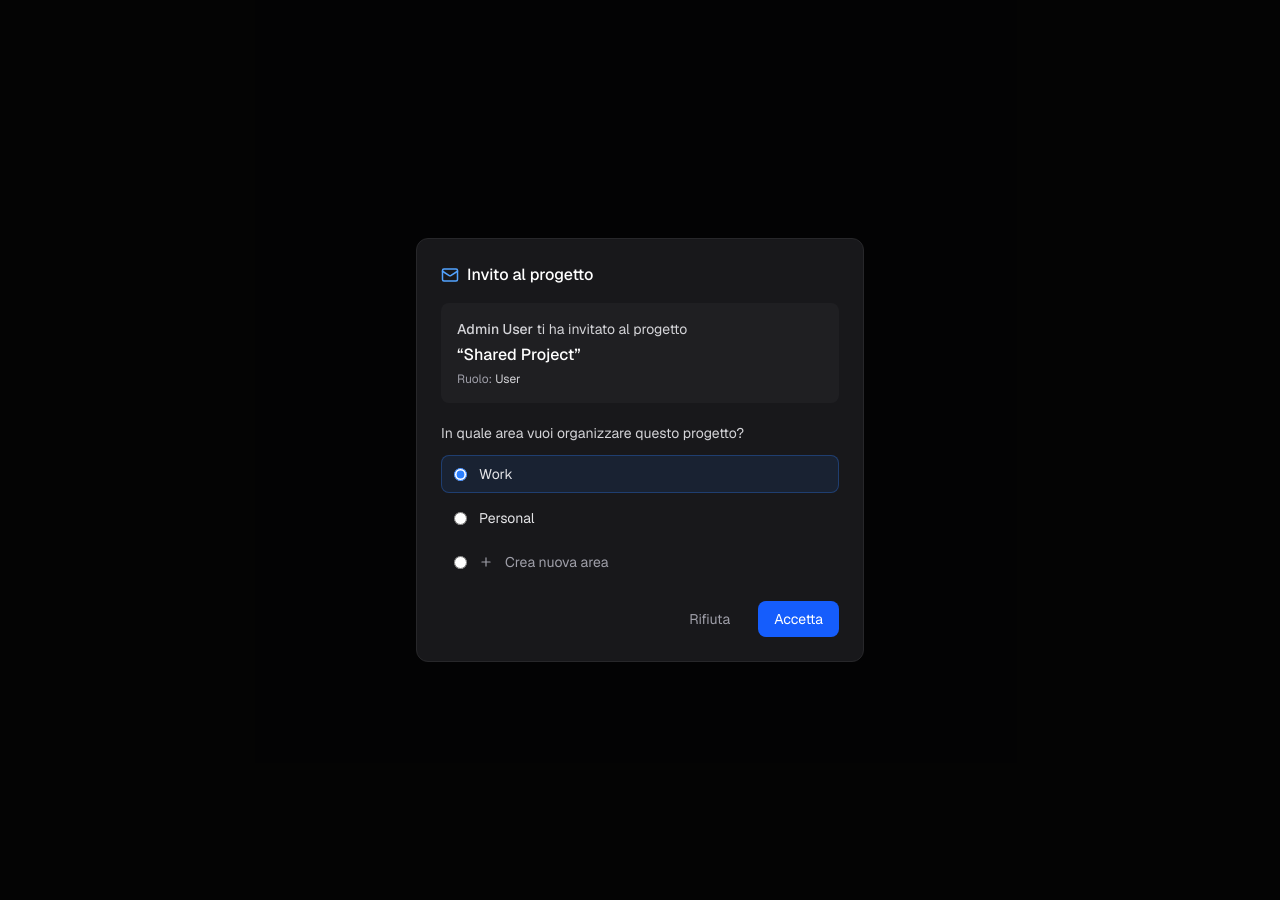
Test: AcceptInvitationDialog › shows 'create new area' input when selected
Step 1. Click the text "Crea nuova area" → (557, 562), box [505, 552, 608, 572]
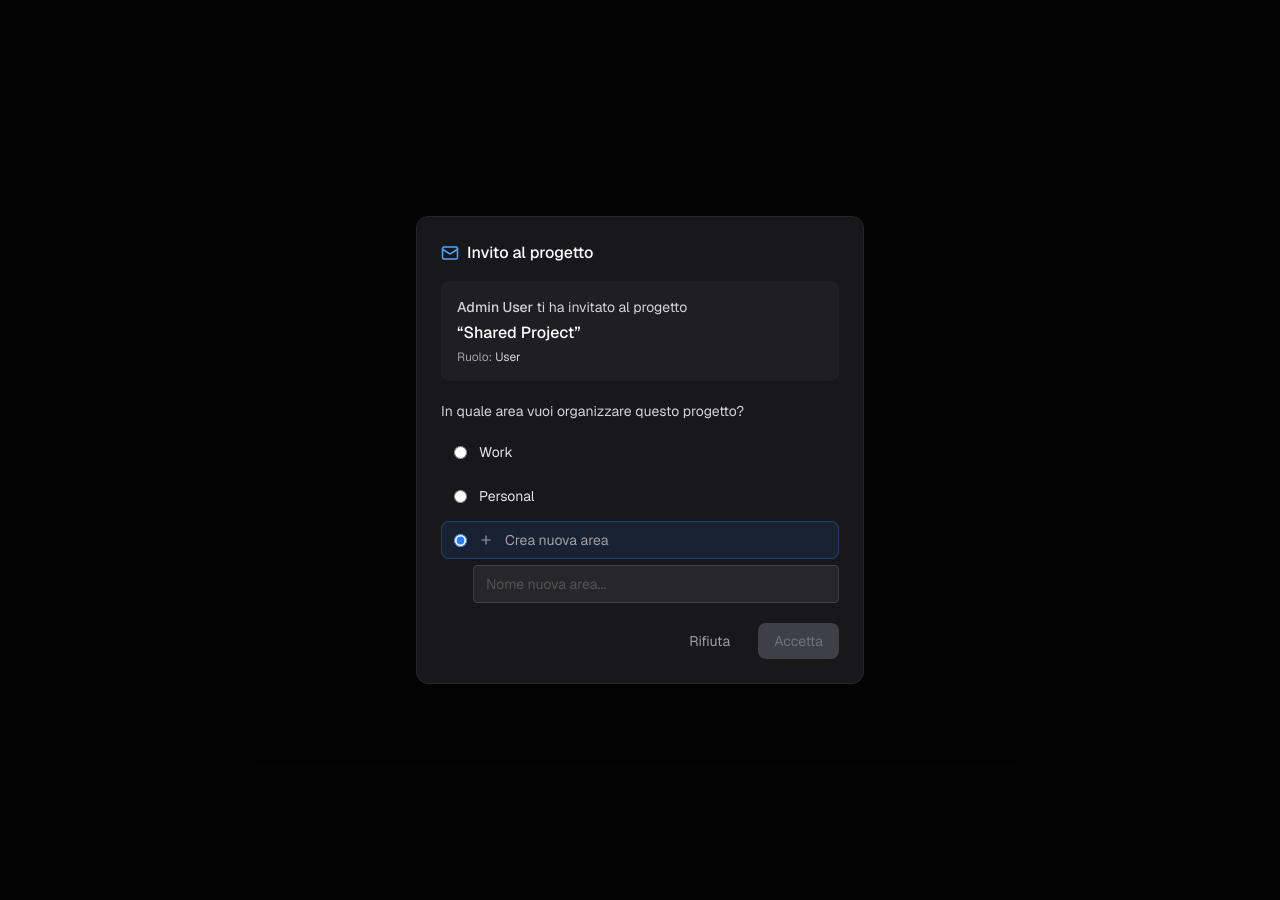
Result: the field with placeholder "Nome nuova area..." is shown at [473, 565, 839, 603]
